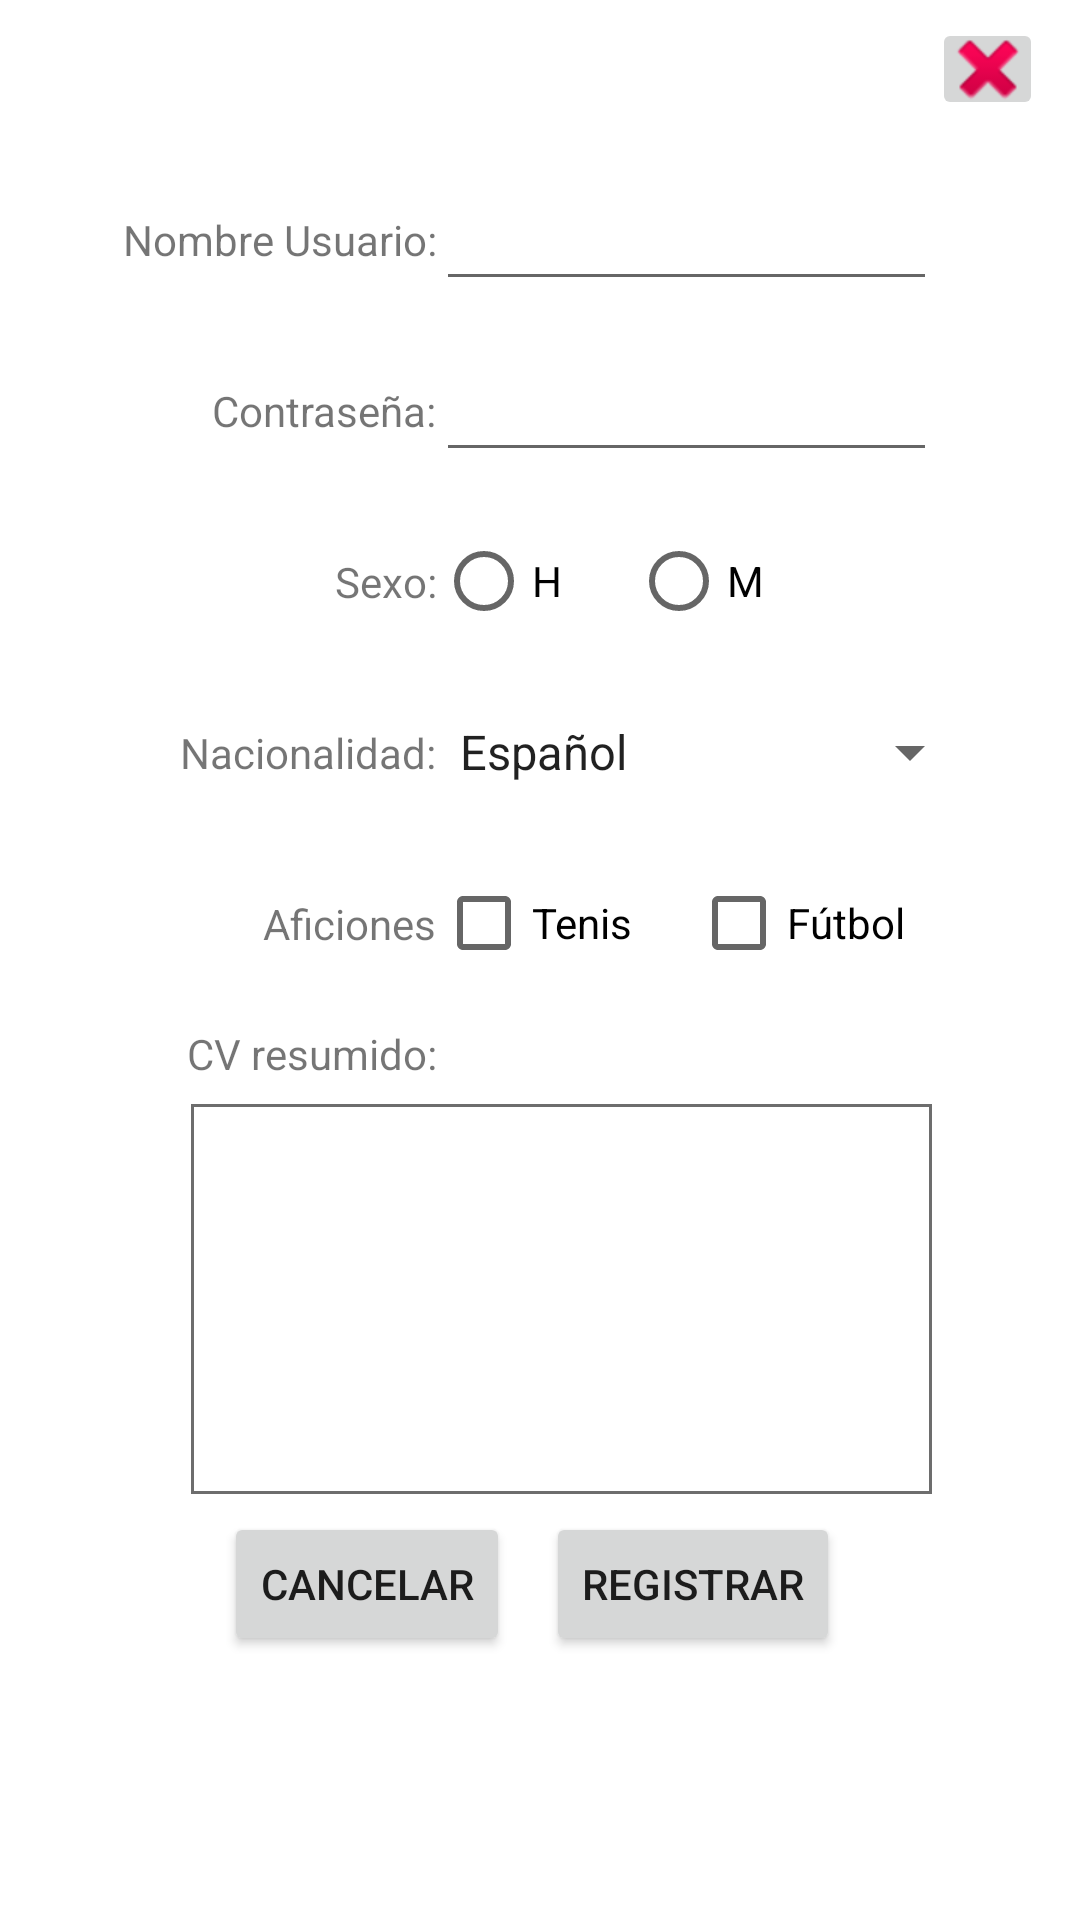

Screen size 1080 × 1920. Icon name, then its box in pixels as box=[x1, y1, x2, y2]:
delete: box=[944, 36, 1031, 102]
